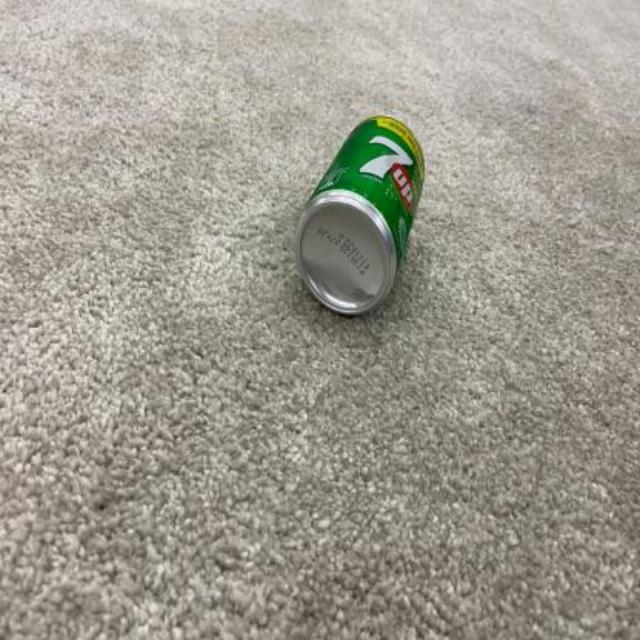metal: (295, 114, 422, 312)
